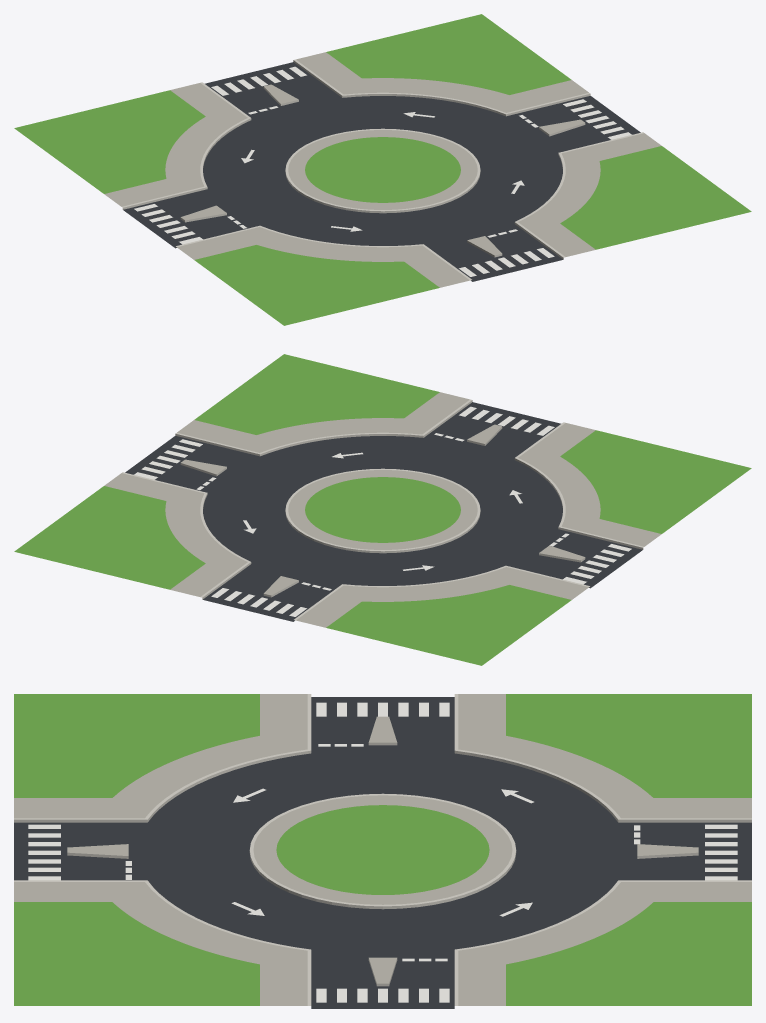
File: rotatoria.glb
3 renders of one model, top to bottom at view 1: azimuth 30°, elevation 25°; view 2: azimuth 150°, elevation 25°; view 3: azimuth 270°, elevation 25°, orthographic. The views are drawn at different scales.
Visible parts, largest first — view 1: Grama, Asfalto, Calcada, Ilha, MeioFio, Faixas; view 2: Grama, Asfalto, Calcada, Ilha, MeioFio, Faixas; view 3: Grama, Asfalto, Calcada, Ilha, MeioFio, Faixas.
Part boxes in pixels (x1,y1,x2,y2): Grama: (14,14,751,325); Asfalto: (123,62,640,281); Calcada: (104,52,661,287); Ilha: (305,137,460,202); MeioFio: (122,59,643,280); Faixas: (134,66,631,276); Grama: (14,354,751,665); Asfalto: (125,402,642,621); Calcada: (104,392,661,627); Ilha: (305,477,460,542); MeioFio: (122,399,643,620); Faixas: (134,406,631,616); Grama: (14,694,751,1005); Asfalto: (14,697,751,1008); Calcada: (14,694,751,1005); Ilha: (276,805,489,894); MeioFio: (14,694,751,1005); Faixas: (28,702,737,1002).
Bounding box in the file's own units: 36 × 0.15 × 36.
